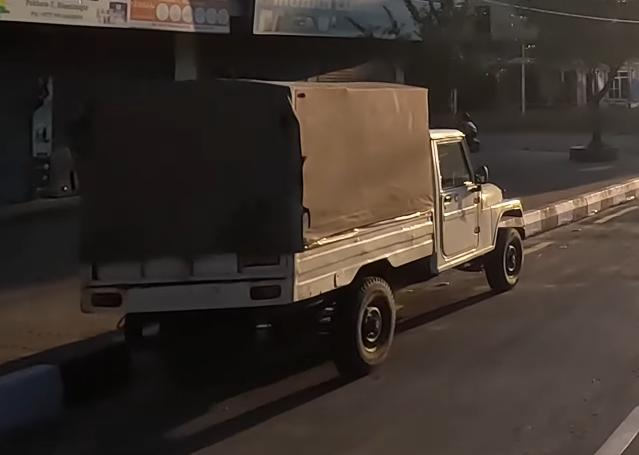transport_vehicle: (77, 66, 531, 377)
